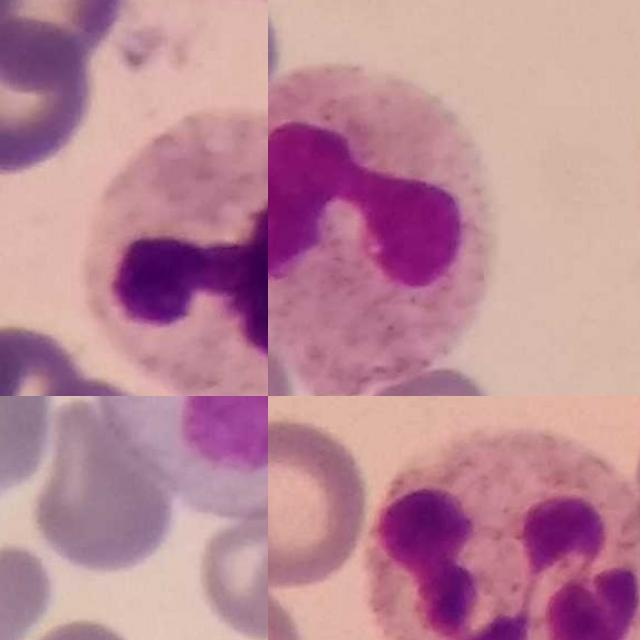Eosinophil: (268, 66, 491, 396)
Monocyte: (89, 396, 268, 520)
Neutrophil: (371, 426, 640, 640), (84, 113, 268, 396)
